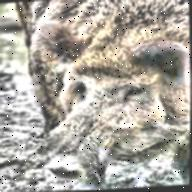boar: (17, 0, 192, 187)
